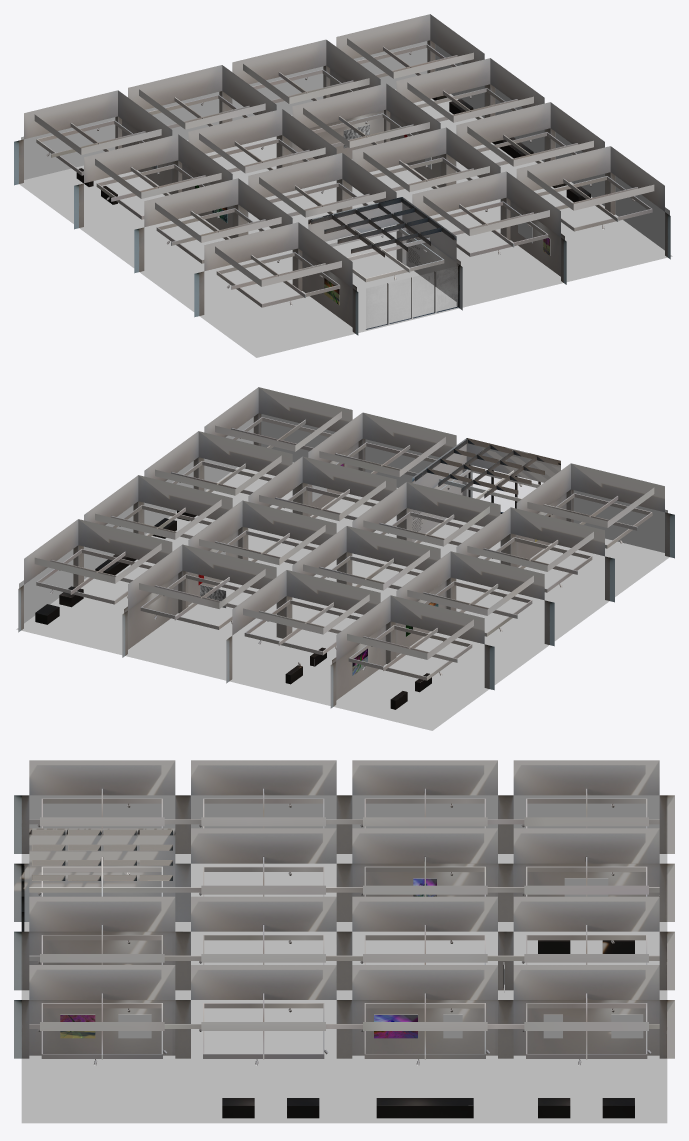
The model's file is magenta.gltf.
The picture shows the model from 3 angles, top to bottom: view 1: azimuth 30°, elevation 25°; view 2: azimuth 150°, elevation 25°; view 3: azimuth 270°, elevation 25°; orthographic projection. The views are drawn at different scales.
Parts seen in each view (by area): view 1: walls, floor, ceiling, glass, windows, post; view 2: walls, floor, ceiling, windows, post, glass; view 3: walls, floor, ceiling, post, windows, frame_15.
Boxes of the visible parts, box(x1,y1,x2,y2) form: walls: box(14, 14, 670, 335); floor: box(19, 41, 672, 357); ceiling: box(34, 38, 654, 307); glass: box(366, 267, 457, 328); windows: box(311, 198, 458, 329); post: box(76, 95, 590, 204); walls: box(18, 387, 674, 708); floor: box(16, 414, 669, 730); ceiling: box(34, 411, 654, 680); windows: box(415, 439, 558, 513); post: box(35, 510, 431, 709); glass: box(470, 465, 542, 512); walls: box(14, 760, 674, 1058); floor: box(21, 795, 667, 1123); ceiling: box(29, 788, 659, 1065); post: box(222, 940, 634, 1118); windows: box(21, 829, 172, 931); frame_15: box(374, 1015, 417, 1038).
Bounding box in the file's own units: 51.2 × 8 × 51.2.
